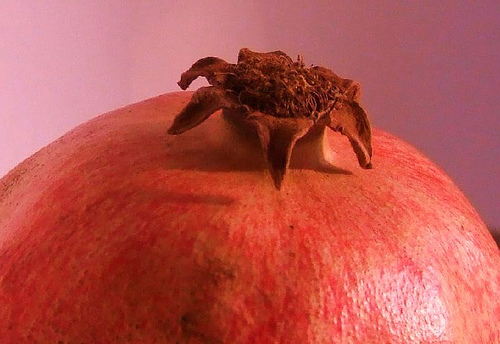pomogranate: (0, 46, 499, 343)
